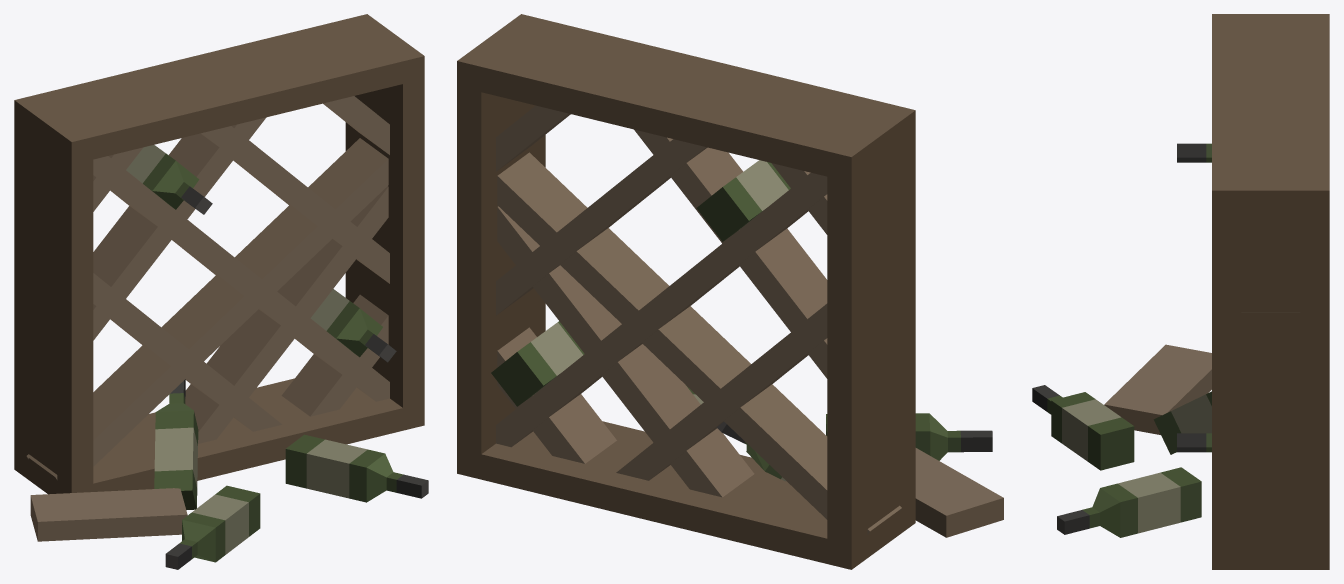
Rendered from SD_Prop_Winerack_02.fbx.
The picture shows the model from 3 angles, left to right: view 1: azimuth 30°, elevation 25°; view 2: azimuth 150°, elevation 25°; view 3: azimuth 270°, elevation 25°; orthographic projection. The views are drawn at different scales.
Parts seen in each view (by area): view 1: SD_Prop_Winerack_02; view 2: SD_Prop_Winerack_02; view 3: SD_Prop_Winerack_02.
Boxes of the visible parts, x1,y1,x2,y2 form: SD_Prop_Winerack_02: [14, 14, 428, 569]; SD_Prop_Winerack_02: [457, 14, 1003, 569]; SD_Prop_Winerack_02: [1032, 14, 1329, 569].
Bounding box in the file's own units: 4.26 × 3.78 × 2.61.
